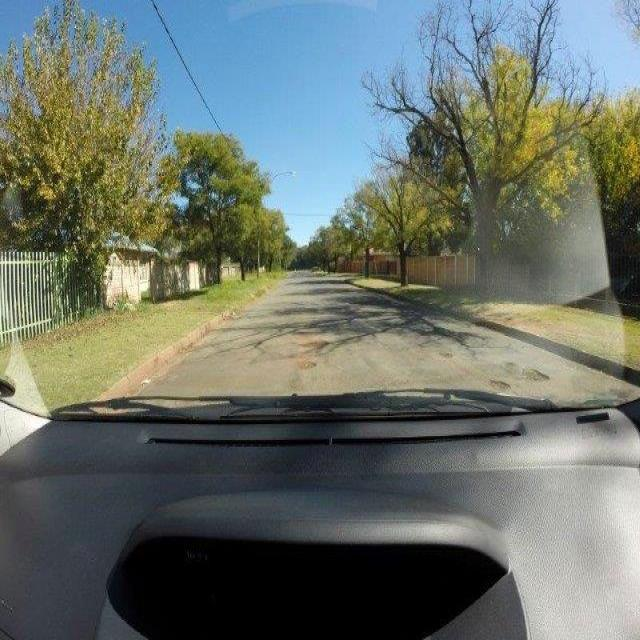lubang: (291, 328, 329, 373), (508, 361, 551, 383), (482, 372, 513, 398)
